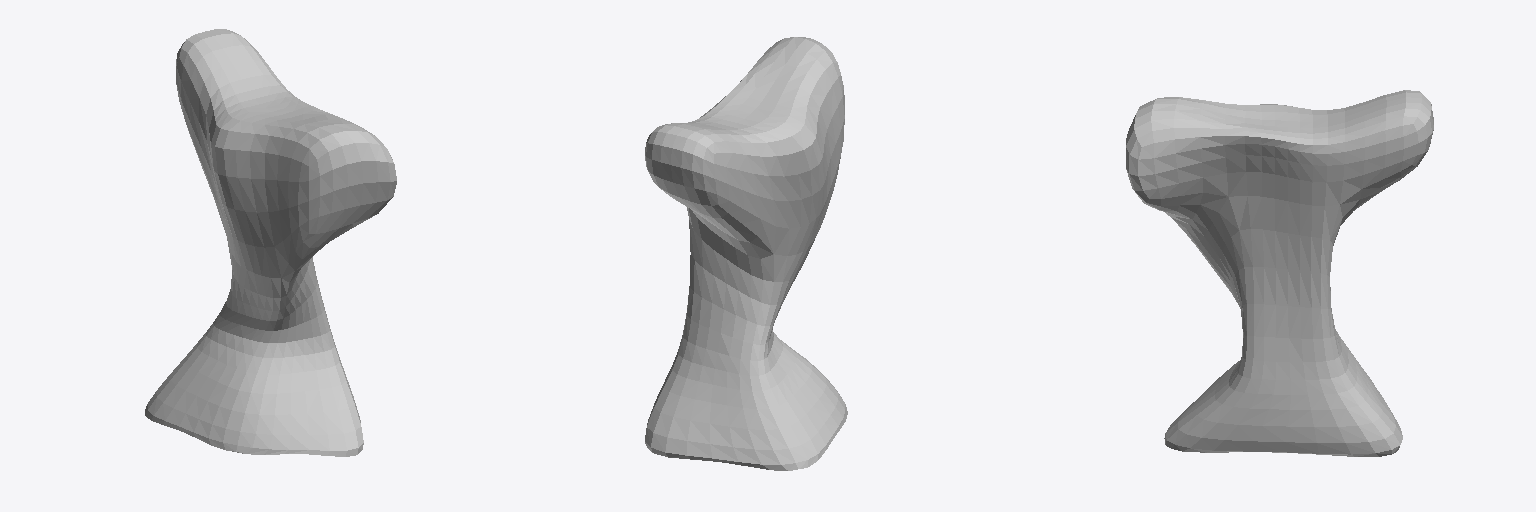
Rendered from Risco.obj.
3 views of the same model, side by side, from view 1: azimuth 30°, elevation 25°; view 2: azimuth 150°, elevation 25°; view 3: azimuth 270°, elevation 25° (orthographic).
Visible parts, largest first — view 1: Cube; view 2: Cube; view 3: Cube.
Boxes of the visible parts, <box> form: Cube: <box>145,29,396,456</box>; Cube: <box>645,37,847,470</box>; Cube: <box>1126,90,1433,456</box>.
Size of the model in its own units: 3.69 by 7.67 by 6.35.